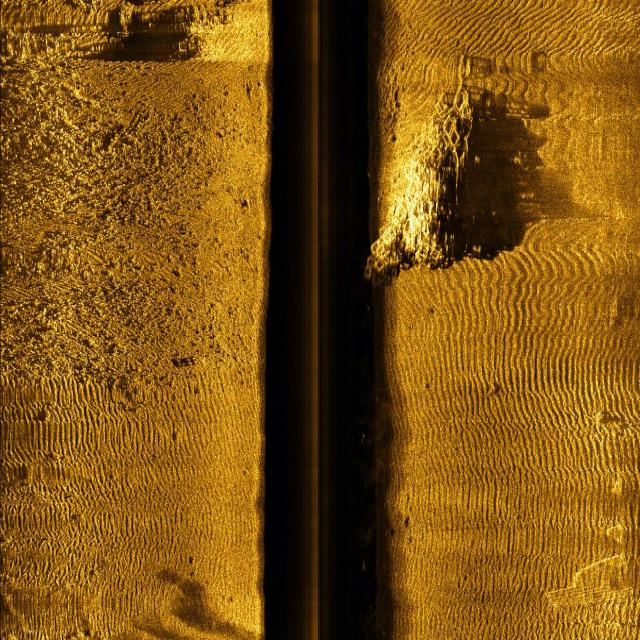artificial reef: (364, 59, 498, 284)
